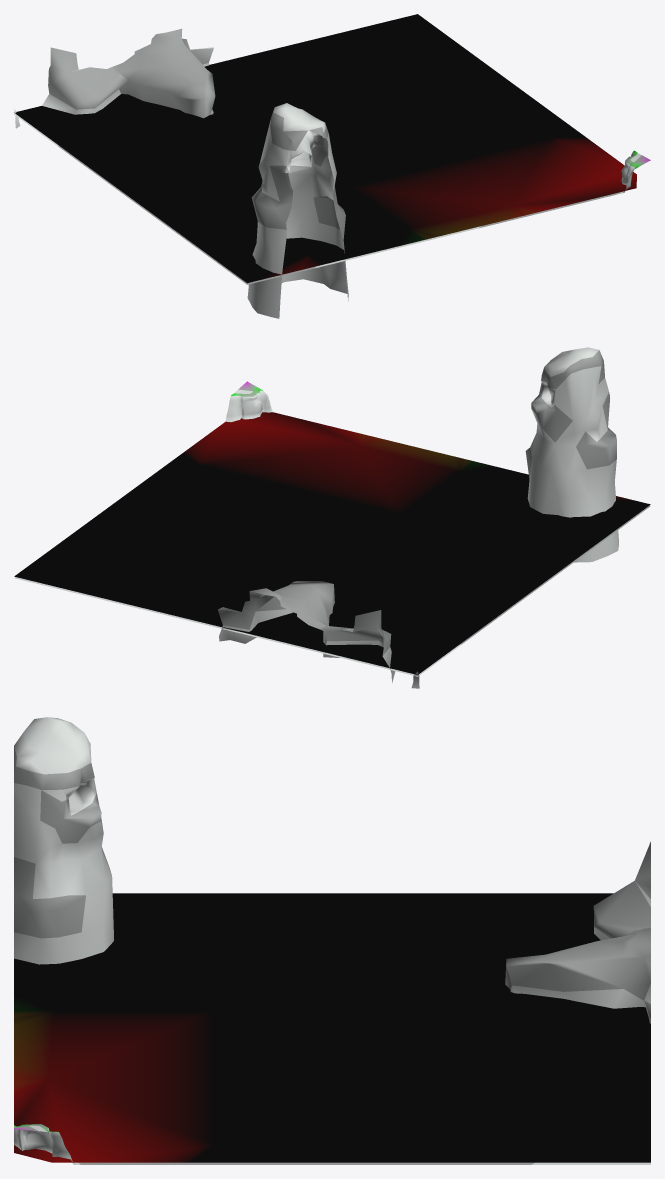
3 views of the same model, one above another, from view 1: azimuth 30°, elevation 25°; view 2: azimuth 150°, elevation 25°; view 3: azimuth 270°, elevation 25° (orthographic). The views are drawn at different scales.
Visible parts, largest first — view 1: G:\FFXIV-MapTools\exports\f1f1\bg\ffxiv\fst_f1\fld\f1f1\bgpl (×7); view 2: G:\FFXIV-MapTools\exports\f1f1\bg\ffxiv\fst_f1\fld\f1f1\bgpl (×7); view 3: G:\FFXIV-MapTools\exports\f1f1\bg\ffxiv\fst_f1\fld\f1f1\bgpl (×7).
Part boxes in pixels (<box>): G:\FFXIV-MapTools\exports\f1f1\bg\ffxiv\fst_f1\fld\f1f1\bgpl (×7): <box>14,14,636,318</box>; G:\FFXIV-MapTools\exports\f1f1\bg\ffxiv\fst_f1\fld\f1f1\bgpl (×7): <box>14,347,650,688</box>; G:\FFXIV-MapTools\exports\f1f1\bg\ffxiv\fst_f1\fld\f1f1\bgpl (×7): <box>14,717,650,1164</box>.
Size of the model in its own units: 128 by 59.75 by 128.
